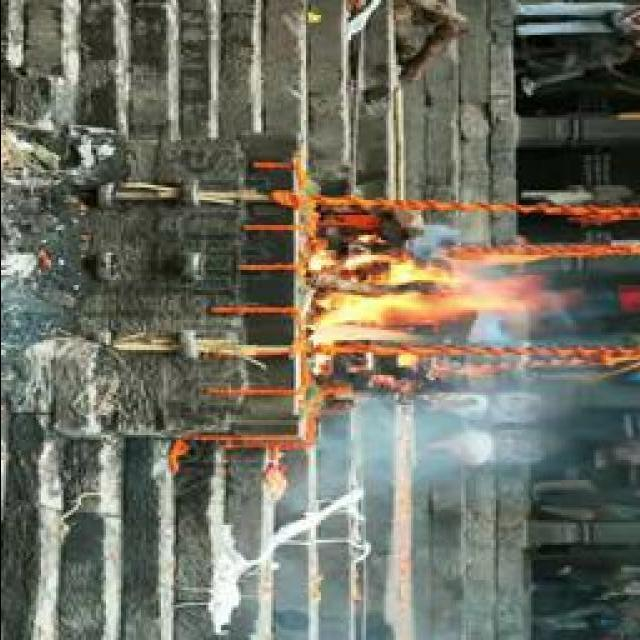Fire: (308, 248, 548, 348)
Smoke: (319, 404, 538, 490)
